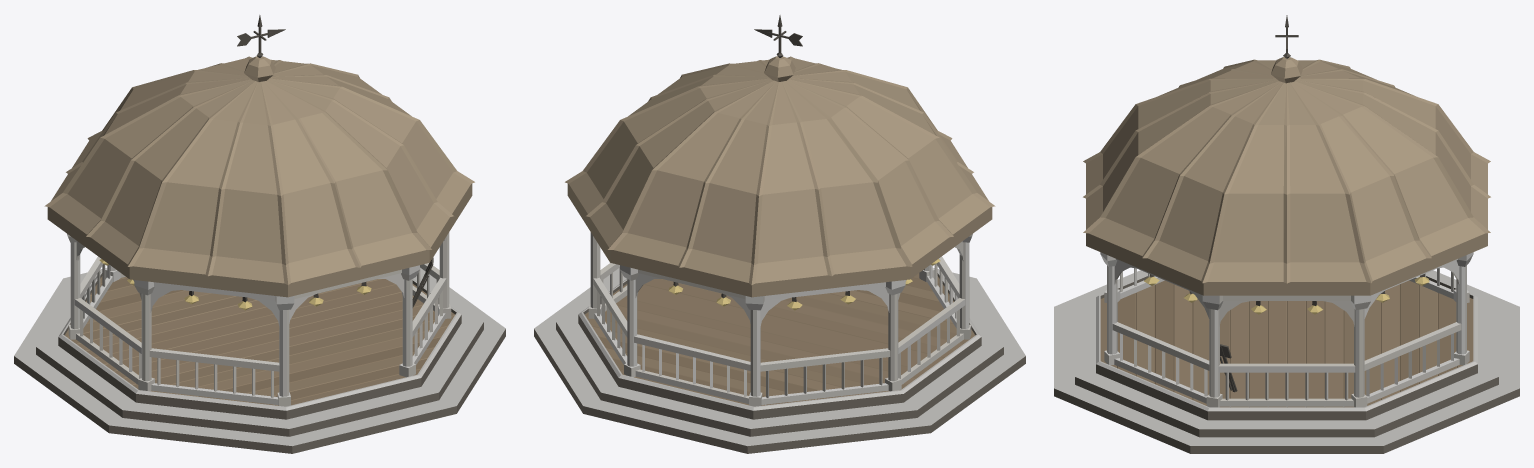
File: promenade-bandstand-1a71b5.glb
3 views of the same model, side by side, from view 1: azimuth 30°, elevation 25°; view 2: azimuth 150°, elevation 25°; view 3: azimuth 270°, elevation 25° (orthographic).
Parts seen in each view (by area): view 1: bandstand; view 2: bandstand; view 3: bandstand.
Boxes of the visible parts, left/top/right/bottom form: bandstand: left=14, top=15, right=505, bottom=453; bandstand: left=534, top=15, right=1025, bottom=453; bandstand: left=1054, top=15, right=1519, bottom=453.
Size of the model in its own units: 8 by 6.47 by 8.
